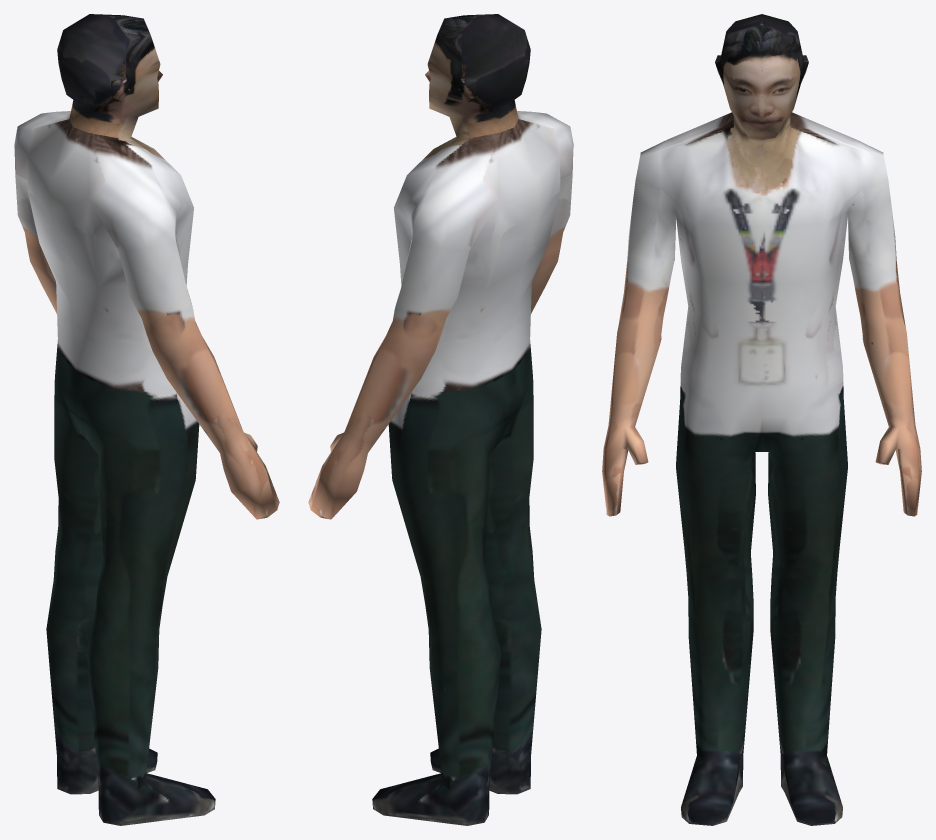
The model's file is niel.fbx.
3 renders of one model, left to right at view 1: azimuth 30°, elevation 25°; view 2: azimuth 150°, elevation 25°; view 3: azimuth 270°, elevation 25°, orthographic.
Parts seen in each view (by area): view 1: niel; view 2: niel; view 3: niel.
Part boxes in pixels (x1=…): niel: x1=14, y1=14, x2=279, y2=825; niel: x1=308, y1=14, x2=573, y2=825; niel: x1=602, y1=14, x2=921, y2=825.
Bounding box in the file's own units: 92.32 × 442 × 166.
